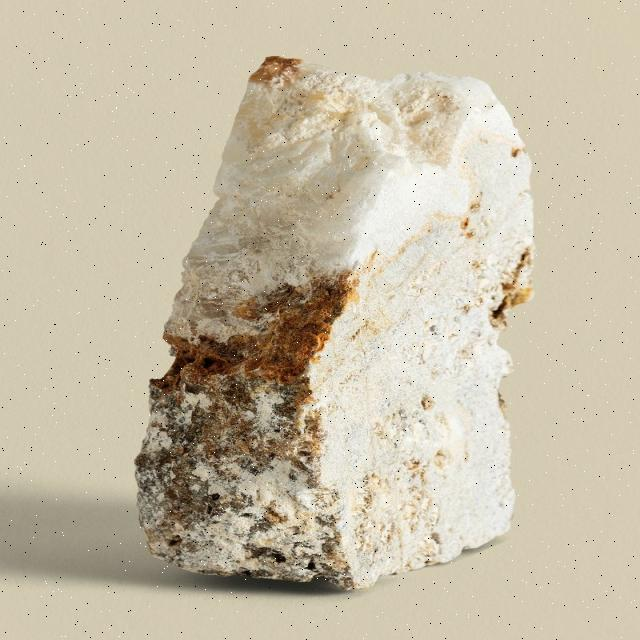Metamorphic: (129, 45, 548, 591)
